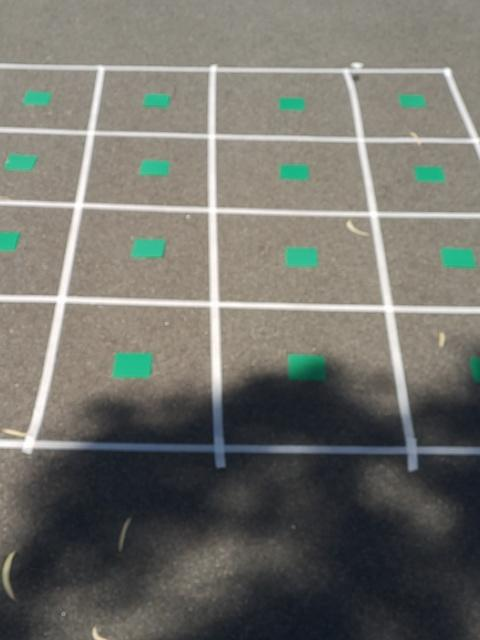weed: (288, 352, 328, 381), (111, 352, 153, 376), (440, 246, 476, 269), (130, 238, 165, 257), (285, 246, 318, 265), (414, 165, 446, 184), (138, 158, 171, 176), (279, 162, 309, 181), (4, 154, 38, 170), (0, 230, 22, 253), (280, 94, 305, 112), (398, 93, 428, 108), (21, 91, 52, 104), (142, 93, 169, 107), (468, 355, 480, 382)
